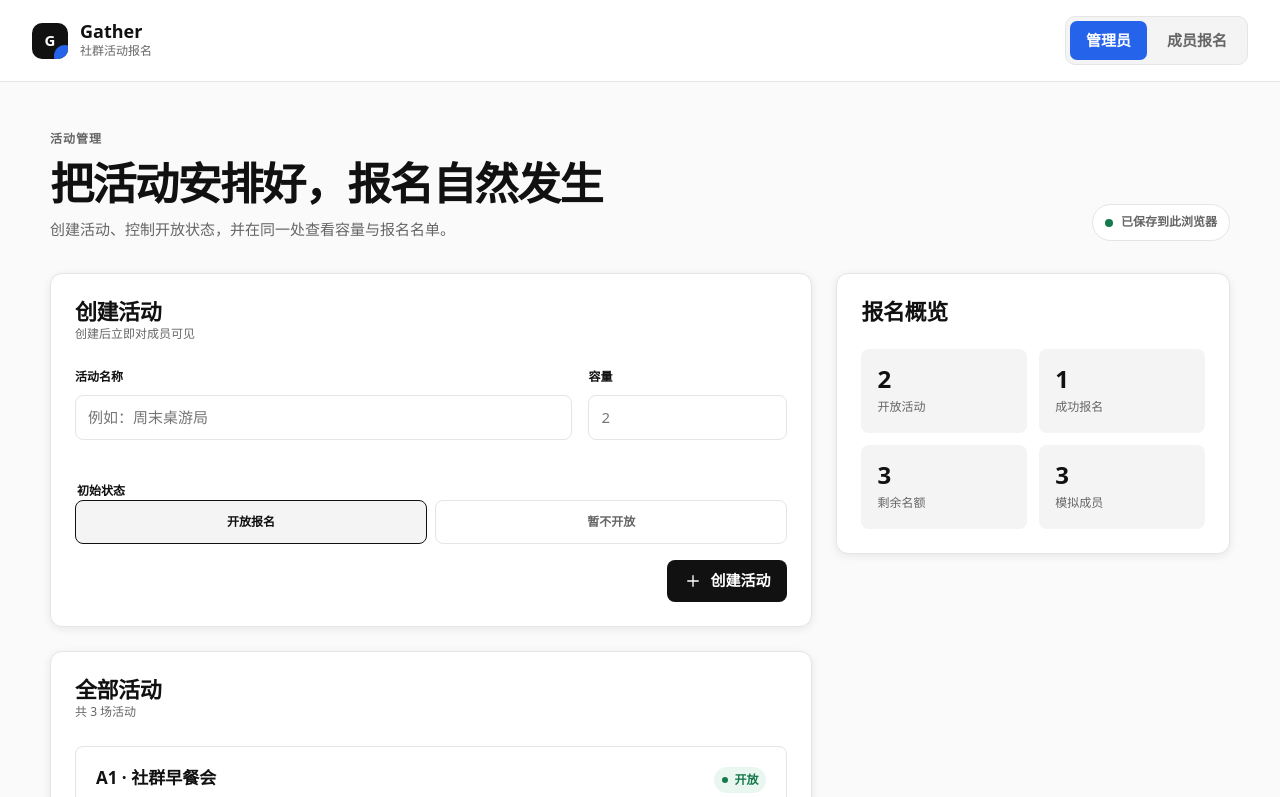
成员关键交互 › 刷新后已报名当前活动仍被拦截，其他开放活动保持可提交
Click the button "成员报名".
click(1197, 41)  # box [1151,21,1243,60]
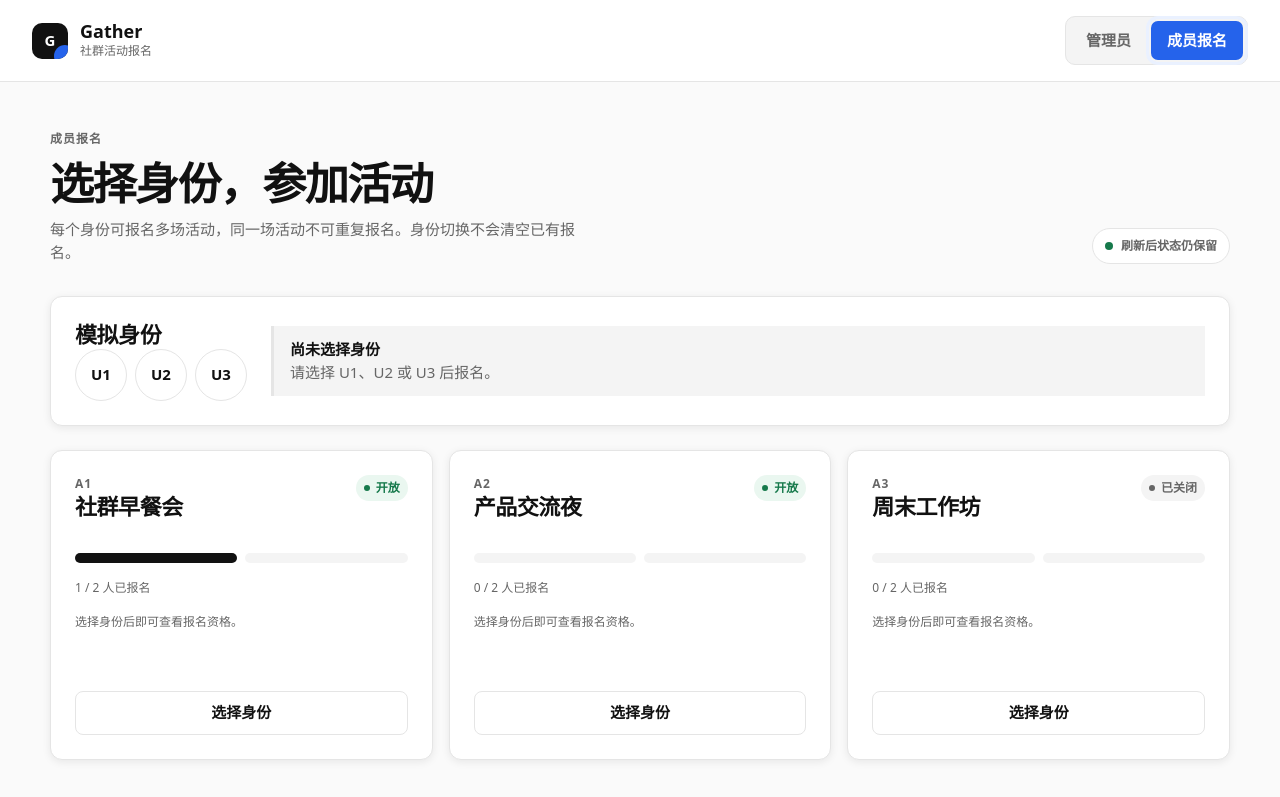
Click the button "U1".
click(101, 375)  # box [75,349,127,401]
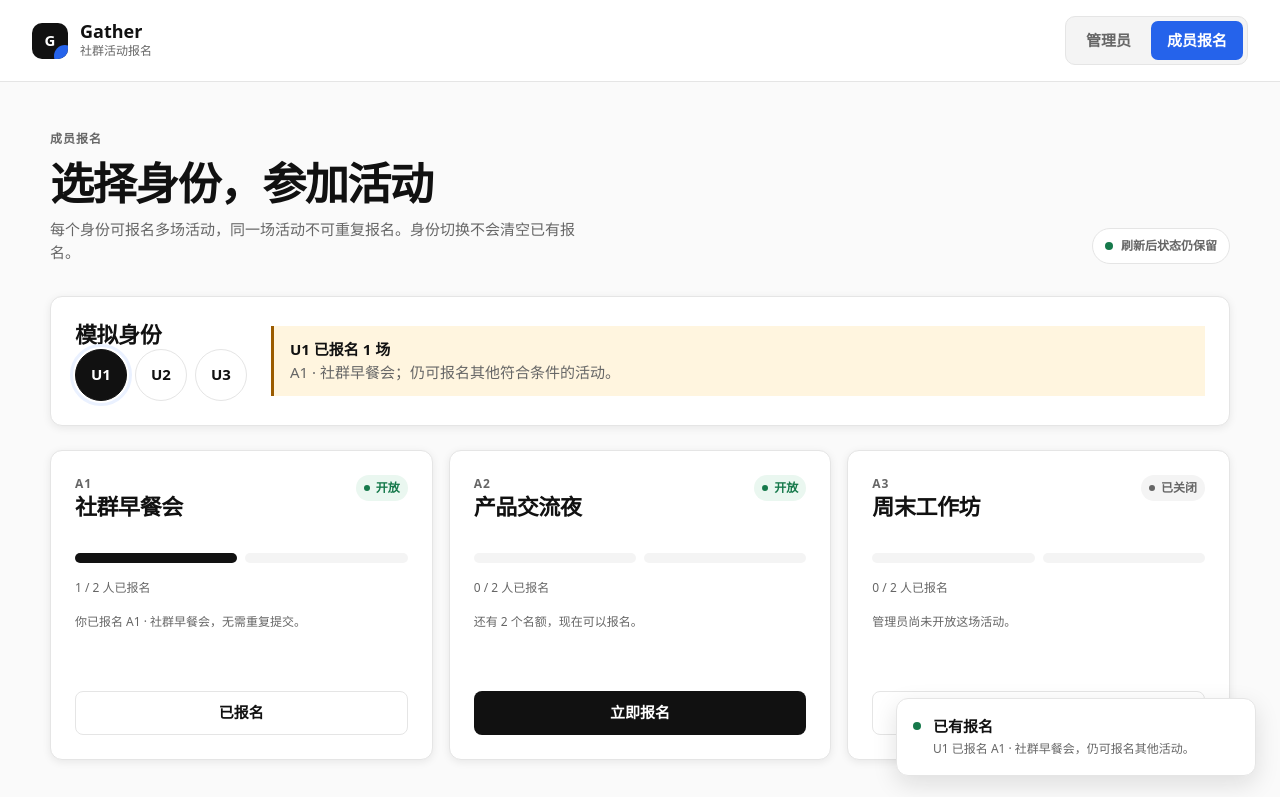
expect the button "已报名" is shown: met, box [75,691,408,735]
expect the button "立即报名" is shown: met, box [474,691,806,735]
